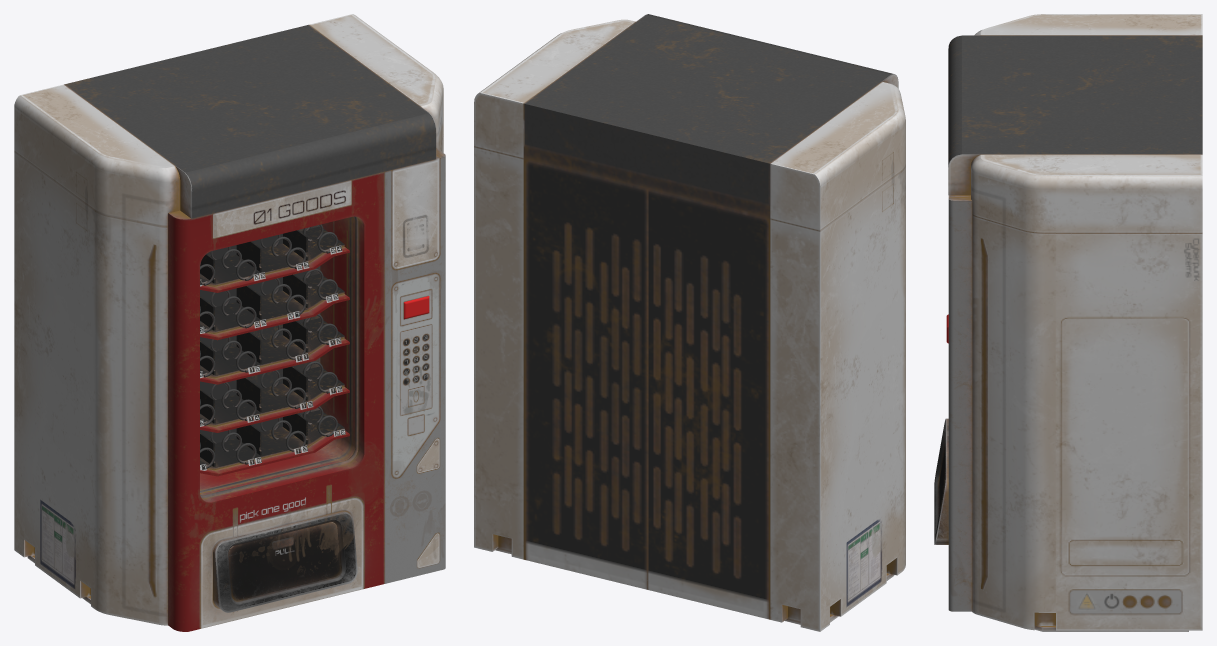
Rendered from uploads_files_2135669_SM_VendingMachine04.FBX.
3 views of the same model, side by side, from view 1: azimuth 30°, elevation 25°; view 2: azimuth 150°, elevation 25°; view 3: azimuth 270°, elevation 25° (orthographic).
Parts seen in each view (by area): view 1: SM_VendingMachine004; view 2: SM_VendingMachine004; view 3: SM_VendingMachine004.
Part boxes in pixels (box(x1,y1,x2,y2)): SM_VendingMachine004: box(14, 14, 445, 631); SM_VendingMachine004: box(474, 14, 905, 631); SM_VendingMachine004: box(934, 14, 1202, 631).
Size of the model in its own units: 183 by 232 by 124.
